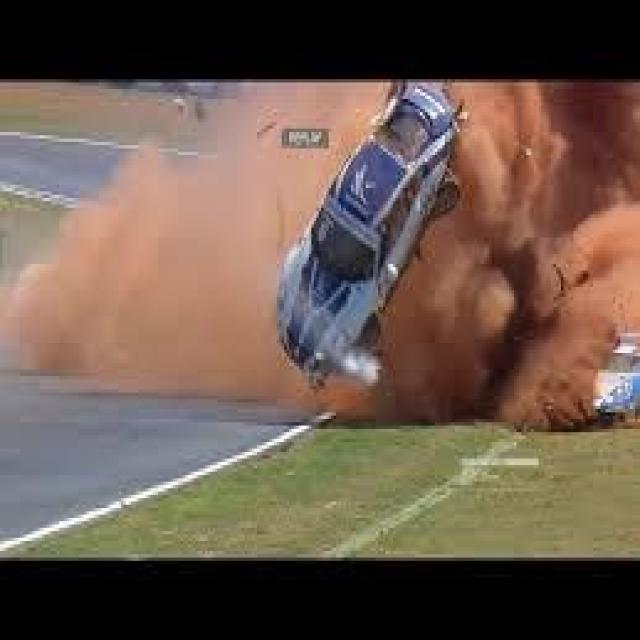severe: (256, 82, 463, 392)
